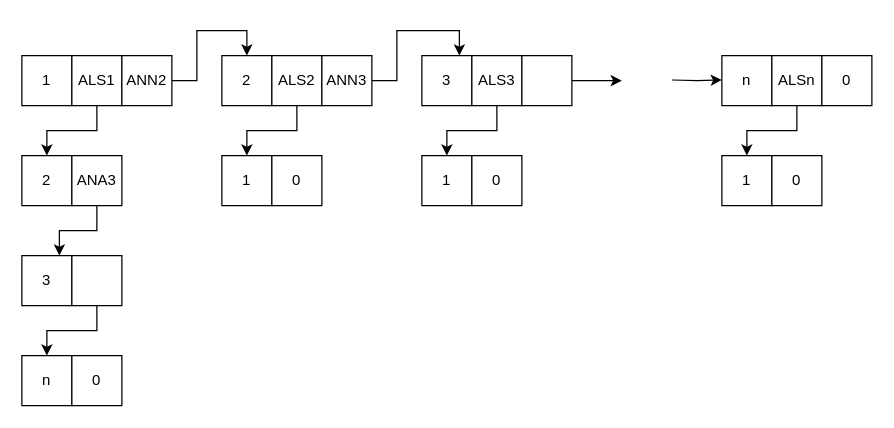
This 894x428 diagram has some shape labels left out. Here are the shapes that lost their labels. From the top down, the centre of each, then its label:
At pixel 546 80: "ANN4".
At pixel 96 280: "ANAn".
